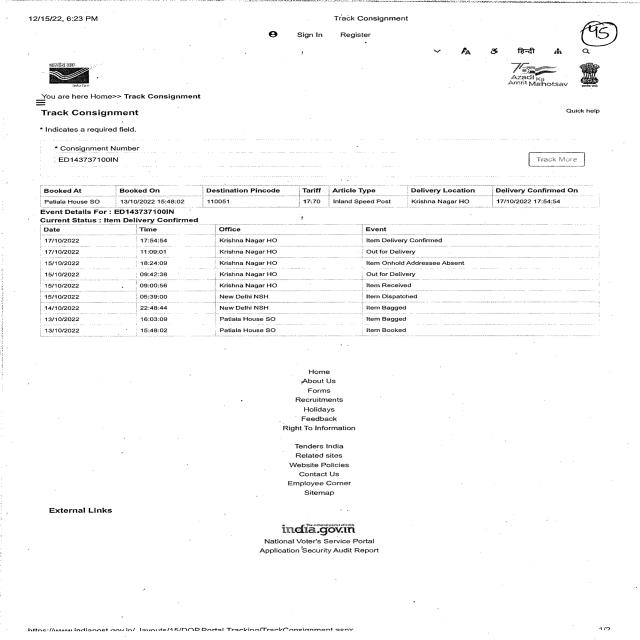page-number: (477, 0, 640, 49)
